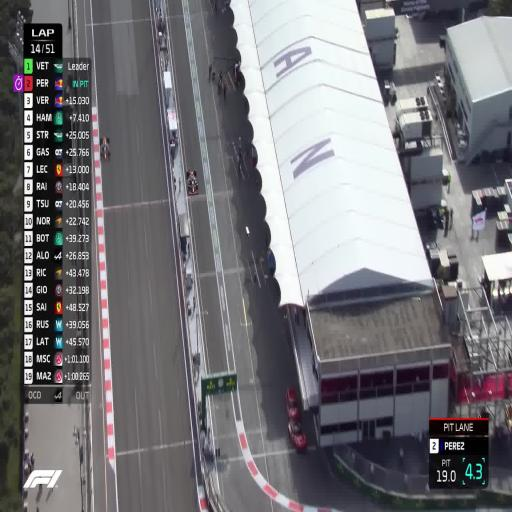f1_car: (184, 164, 200, 198), (96, 133, 112, 164)
